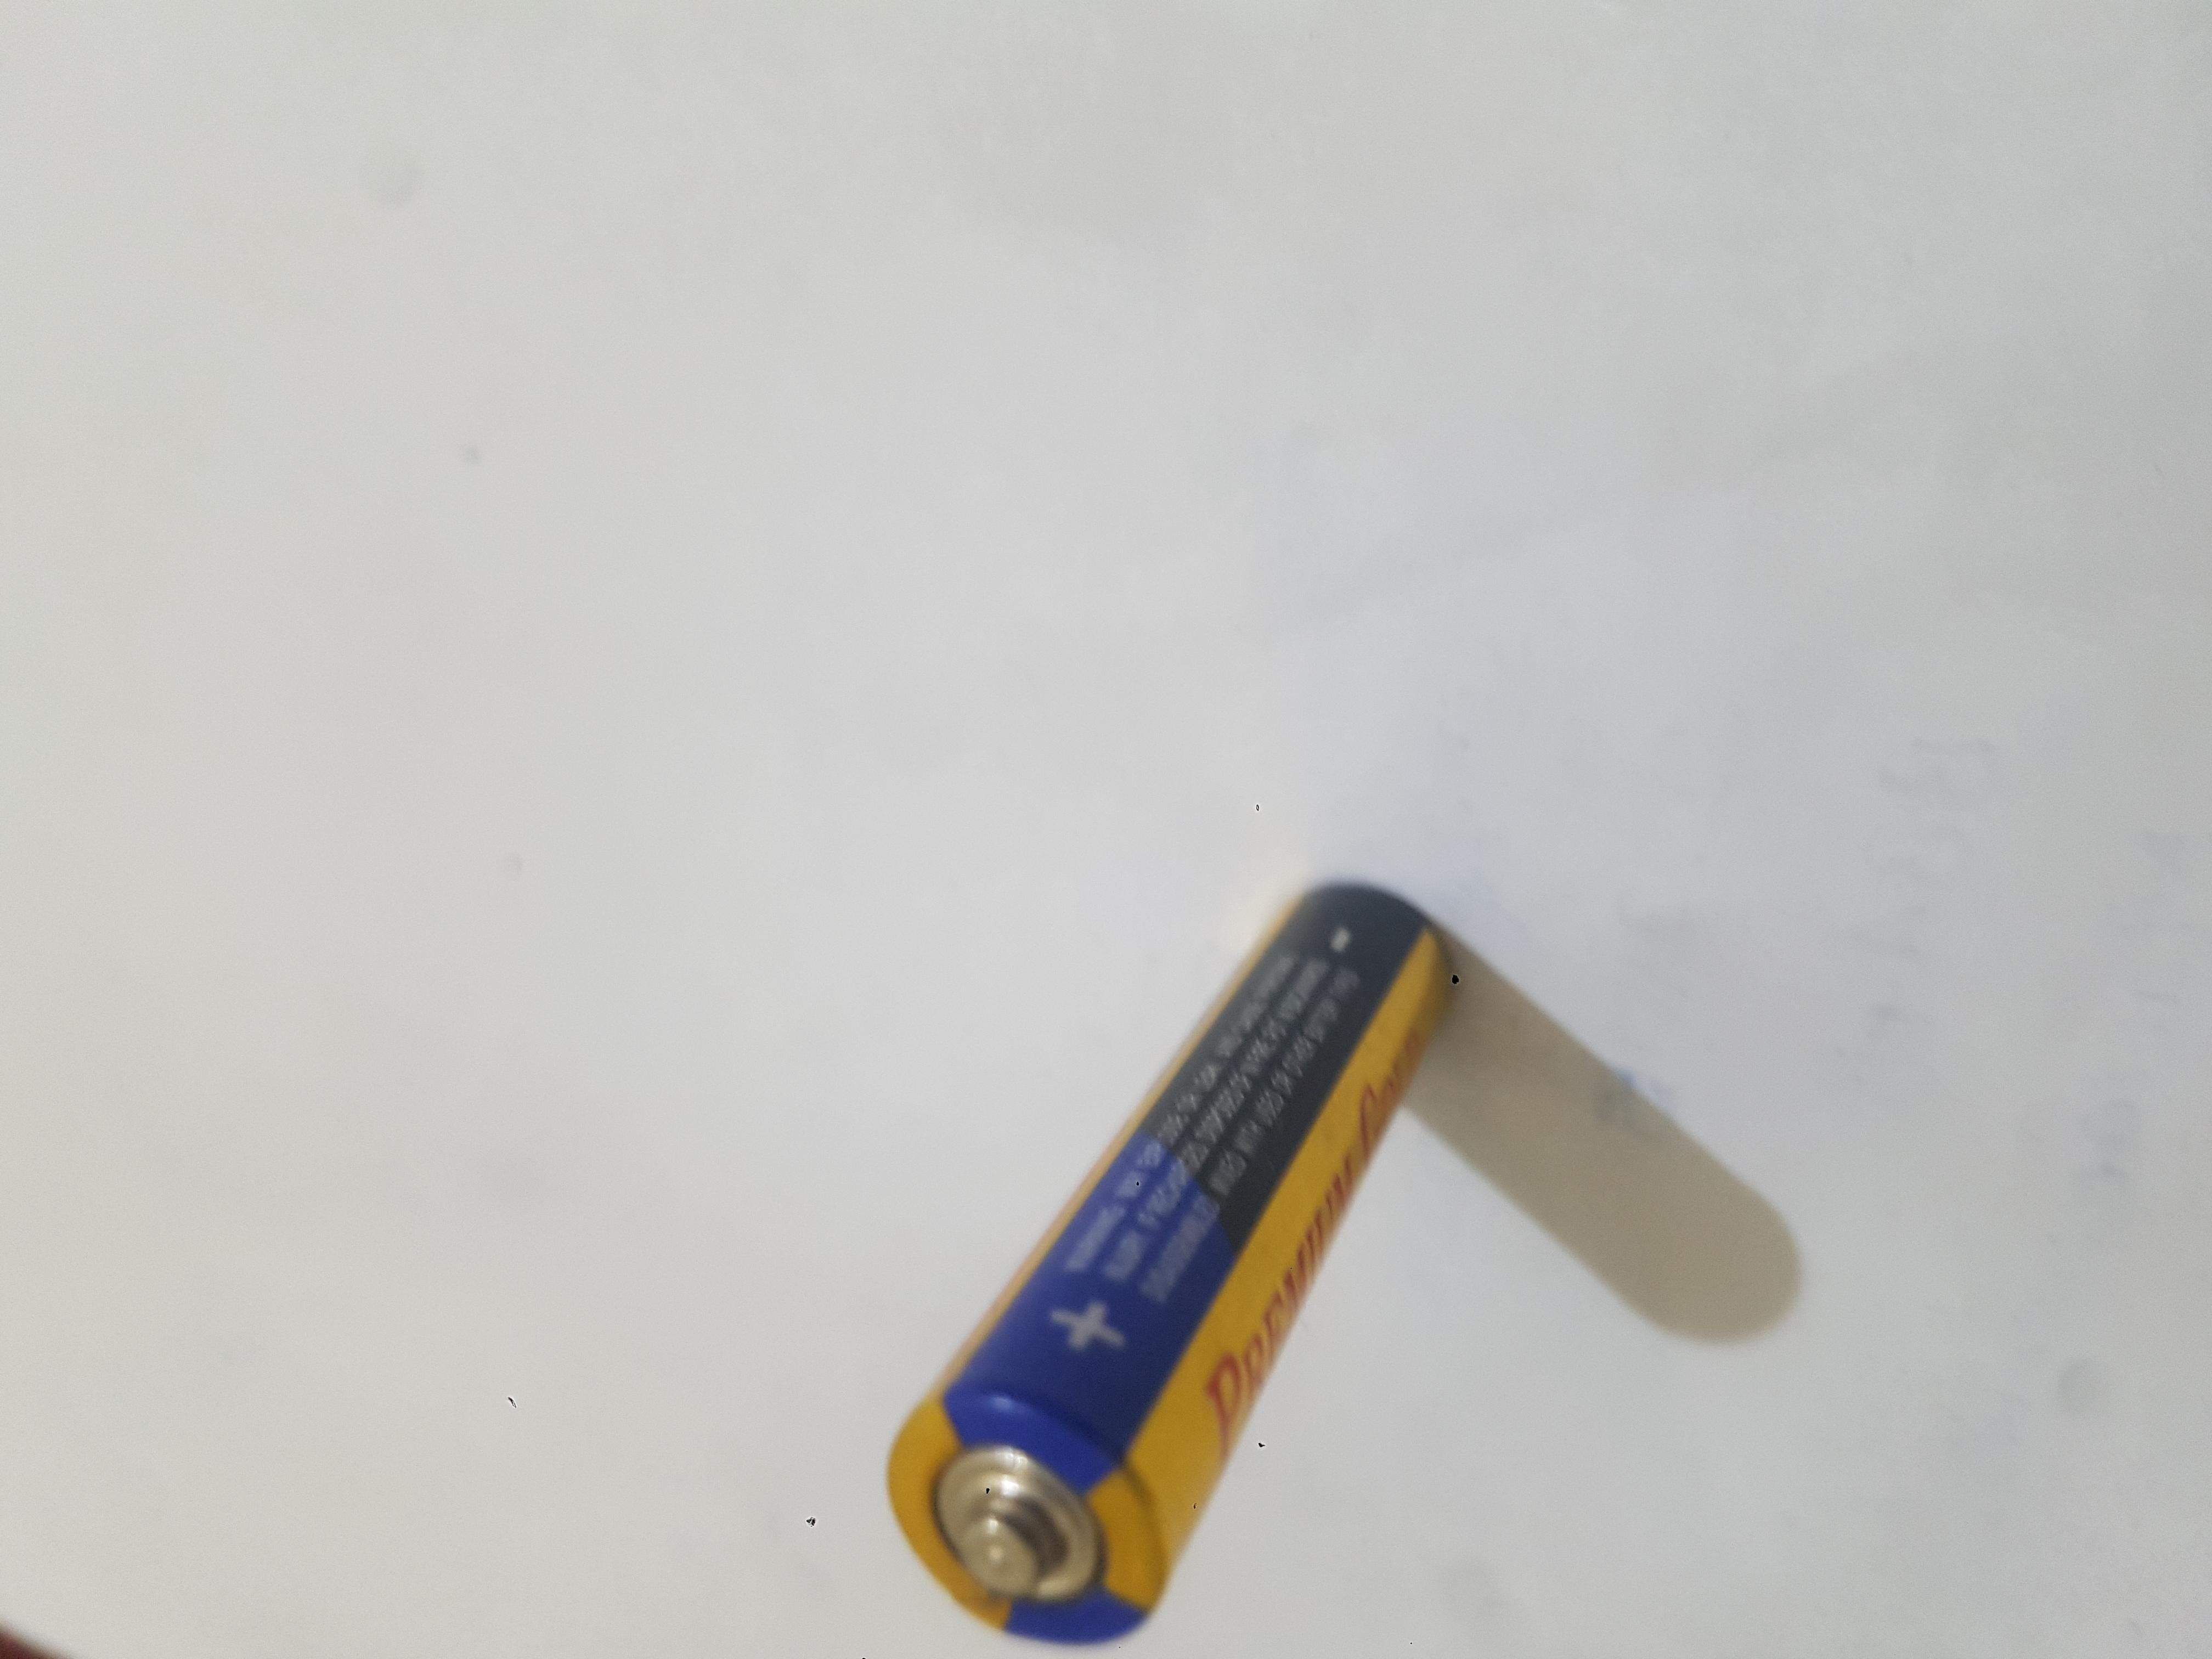battery: (7, 655, 1052, 1096)
